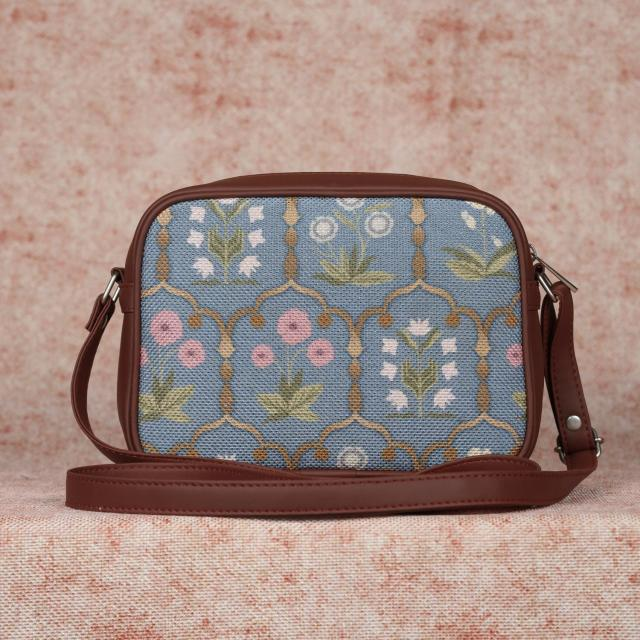handbag: (65, 171, 604, 518)
